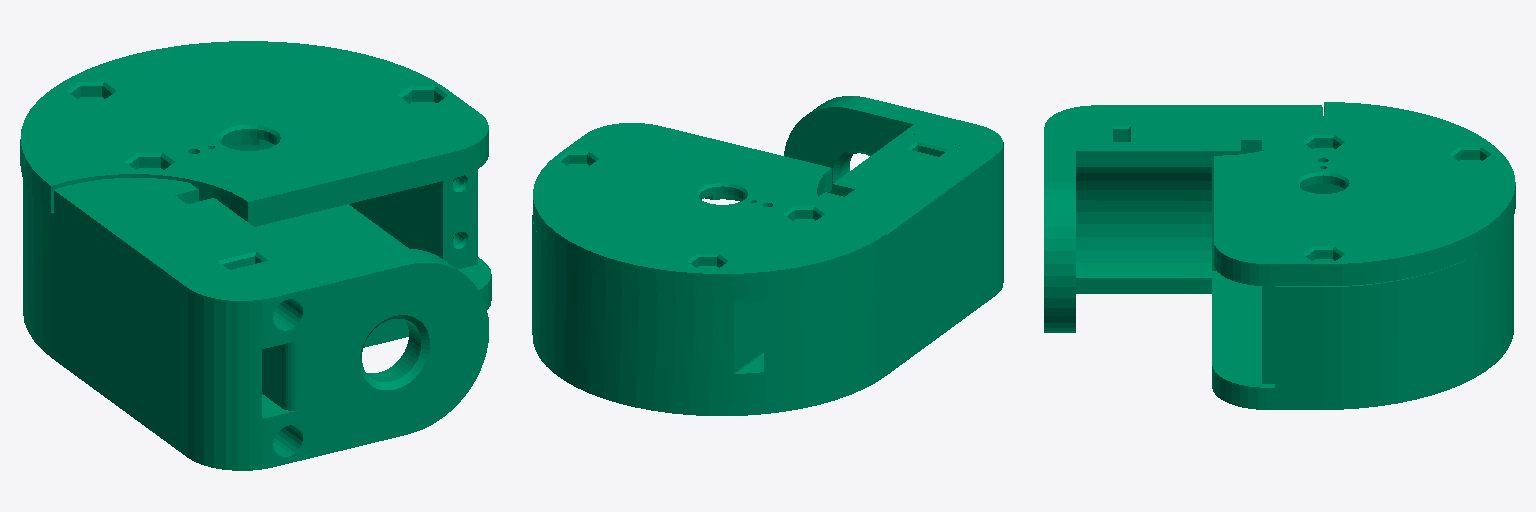
robot.urdf — quadruped:
<?xml version="1.0" ?>
<robot name="quadruped"
    xmlns:xacro="http://www.ros.org/wiki/xacro">
    <link name="base_link">
      <visual>
        <geometry>
          <!-- <cylinder length="0.1" radius="0.2"/> -->
            <mesh 
                filename="package://test_config/meshes/body-bottom.stl" 
                scale="0.0015 0.0015 0.0015"
            />
        </geometry>
      </visual>
    </link>
    <link name="lf_hip_debug_link"/>
    <link name="lf_hip_link">
    <visual>
        <geometry>
        <mesh 
            filename="package://test_config/meshes/shoulder-joint-left.stl" 
            scale="0.0015 0.0015 0.0015"
            />
            </geometry>
      </visual>
    </link>
    <link name="lf_upper_leg_link">
    </link>
    <link name="lf_lower_leg_link"/>
    <link name="lf_foot_link"/>

    <link name="rf_hip_debug_link"/>
    <link name="rf_hip_link"/>
    <link name="rf_upper_leg_link"/>
    <link name="rf_lower_leg_link"/>
    <link name="rf_foot_link"/>

    <link name="lh_hip_debug_link"/>
    <link name="lh_hip_link"/>
    <link name="lh_upper_leg_link"/>
    <link name="lh_lower_leg_link"/>
    <link name="lh_foot_link"/>

    <link name="rh_hip_debug_link"/>
    <link name="rh_hip_link"/>
    <link name="rh_upper_leg_link"/>
    <link name="rh_lower_leg_link"/>
    <link name="rh_foot_link"/>

    <joint name="lf_debug_joint" type="fixed">
        <parent link="base_link"/>
        <child link="lf_hip_debug_link"/>
        <origin rpy="0 0 0" xyz="0.1375 0.07 0"/>
    </joint>
    <joint name="lf_hip_joint" type="revolute">
        <axis xyz="1 0 0"/>
        <limit effort="25" lower="-3.14159265359" upper="3.14159265359" velocity="1.5"/>
        <parent link="base_link"/>
        <child link="lf_hip_link"/>
        <origin rpy="0 0 0" xyz="0.1375 0.07 0.0"/>
    </joint>
    <joint name="lf_upper_leg_joint" type="revolute">
        <axis xyz="0 1 0"/>
        <limit effort="25" lower="-3.14159265359" upper="3.14159265359" velocity="1.5"/>
        <parent link="lf_hip_link"/>
        <child link="lf_upper_leg_link"/>
        <origin rpy="0 0 0" xyz="0.015 0.04 -0.0"/>
    </joint>
    <joint name="lf_lower_leg_joint" type="revolute">
        <axis xyz="0 1 0"/>
        <limit effort="25" lower="-1.57079632679" upper="-1.57079632679" velocity="1.5"/>
        <parent link="lf_upper_leg_link"/>
        <child link="lf_lower_leg_link"/>
        <origin rpy="0 0 0" xyz="0.0 0.0 -0.11"/>
    </joint>
    <joint name="lf_foot_joint" type="fixed">
        <parent link="lf_lower_leg_link"/>
        <child link="lf_foot_link"/>
        <origin rpy="0 0 0" xyz="0.0 0.0 -0.105"/>
    </joint>

    <joint name="rf_debug_joint" type="fixed">
        <parent link="base_link"/>
        <child link="rf_hip_debug_link"/>
        <origin rpy="0 0 0" xyz="0.1375 -0.07 0"/>
    </joint>
    <joint name="rf_hip_joint" type="revolute">
        <axis xyz="1 0 0"/>
        <limit effort="25" lower="-3.14159265359" upper="3.14159265359" velocity="1.5"/>
        <parent link="base_link"/>
        <child link="rf_hip_link"/>
        <origin rpy="0 0 0" xyz="0.1375 -0.07 0.0"/>
    </joint>
    <joint name="rf_upper_leg_joint" type="revolute">
        <axis xyz="0 1 0"/>
        <limit effort="25" lower="-3.14159265359" upper="3.14159265359" velocity="1.5"/>
        <parent link="rf_hip_link"/>
        <child link="rf_upper_leg_link"/>
        <origin rpy="0 0 0" xyz="0.015 -0.04 -0.0"/>
    </joint>
    <joint name="rf_lower_leg_joint" type="revolute">
        <axis xyz="0 1 0"/>
        <limit effort="25" lower="-1.57079632679" upper="-1.57079632679" velocity="1.5"/>
        <parent link="rf_upper_leg_link"/>
        <child link="rf_lower_leg_link"/>
        <origin rpy="0 0 0" xyz="0.0 0.0 -0.11"/>
    </joint>
    <joint name="rf_foot_joint" type="fixed">
        <parent link="rf_lower_leg_link"/>
        <child link="rf_foot_link"/>
        <origin rpy="0 0 0" xyz="0.0 0.0 -0.105"/>
    </joint>

    <joint name="lh_debug_joint" type="fixed">
        <parent link="base_link"/>
        <child link="lh_hip_debug_link"/>
        <origin rpy="0 0 0" xyz="-0.1375 0.07 0"/>
    </joint>
    <joint name="lh_hip_joint" type="revolute">
        <axis xyz="1 0 0"/>
        <limit effort="25" lower="-3.14159265359" upper="3.14159265359" velocity="1.5"/>
        <parent link="base_link"/>
        <child link="lh_hip_link"/>
        <origin rpy="0 0 0" xyz="-0.1375 0.07 0.0"/>
    </joint>
    <joint name="lh_upper_leg_joint" type="revolute">
        <axis xyz="0 1 0"/>
        <limit effort="25" lower="-3.14159265359" upper="3.14159265359" velocity="1.5"/>
        <parent link="lh_hip_link"/>
        <child link="lh_upper_leg_link"/>
        <origin rpy="0 0 0" xyz="-0.015 0.04 -0.0"/>
    </joint>
    <joint name="lh_lower_leg_joint" type="revolute">
        <axis xyz="0 1 0"/>
        <limit effort="25" lower="-1.57079632679" upper="-1.57079632679" velocity="1.5"/>
        <parent link="lh_upper_leg_link"/>
        <child link="lh_lower_leg_link"/>
        <origin rpy="0 0 0" xyz="0.0 0.0 -0.11"/>
    </joint>
    <joint name="lh_foot_joint" type="fixed">
        <parent link="lh_lower_leg_link"/>
        <child link="lh_foot_link"/>
        <origin rpy="0 0 0" xyz="0.0 0.0 -0.105"/>
    </joint>

    <joint name="rh_debug_joint" type="fixed">
        <parent link="base_link"/>
        <child link="rh_hip_debug_link"/>
        <origin rpy="0 0 0" xyz="-0.1375 -0.07 0"/>
    </joint>
    <joint name="rh_hip_joint" type="revolute">
        <axis xyz="1 0 0"/>
        <limit effort="25" lower="-3.14159265359" upper="3.14159265359" velocity="1.5"/>
        <parent link="base_link"/>
        <child link="rh_hip_link"/>
        <origin rpy="0 0 0" xyz="-0.1375 -0.07 0.0"/>
    </joint>
    <joint name="rh_upper_leg_joint" type="revolute">
        <axis xyz="0 1 0"/>
        <limit effort="25" lower="-3.14159265359" upper="3.14159265359" velocity="1.5"/>
        <parent link="rh_hip_link"/>
        <child link="rh_upper_leg_link"/>
        <origin rpy="0 0 0" xyz="-0.015 -0.04 -0.0"/>
    </joint>
    <joint name="rh_lower_leg_joint" type="revolute">
        <axis xyz="0 1 0"/>
        <limit effort="25" lower="-1.57079632679" upper="-1.57079632679" velocity="1.5"/>
        <parent link="rh_upper_leg_link"/>
        <child link="rh_lower_leg_link"/>
        <origin rpy="0 0 0" xyz="0.0 0.0 -0.11"/>
    </joint>
    <joint name="rh_foot_joint" type="fixed">
        <parent link="rh_lower_leg_link"/>
        <child link="rh_foot_link"/>
        <origin rpy="0 0 0" xyz="0.0 0.0 -0.105"/>
    </joint>
</robot>

--- Render facts (derived) ---
Views: 3 orthographic renders of the robot side by side, from view 1: azimuth 30°, elevation 25°; view 2: azimuth 150°, elevation 25°; view 3: azimuth 270°, elevation 25°.
Model quadruped with 21 links and 20 joints (12 revolute, 8 fixed), rooted at base_link, posed all joints at 0 but 4 set to mid-range because 0 is outside their limits (lf_lower_leg_joint = -1.57, rf_lower_leg_joint = -1.57, lh_lower_leg_joint = -1.57, rh_lower_leg_joint = -1.57).
Visible links, largest first — view 1: lf_hip_link; view 2: lf_hip_link; view 3: lf_hip_link.
Boxes of the visible links, box(x1,y1,x2,y2) form: lf_hip_link: box(20, 41, 491, 470); lf_hip_link: box(532, 96, 1003, 415); lf_hip_link: box(1044, 102, 1515, 409).
Size in the robot's own frame: 0.1103 by 0.1348 by 0.0583 metres.
Meshes: 2 distinct files referenced, 1 mesh visuals loaded (1 binary STL); not drawn: 1 (reference not matched to a file when rendering).